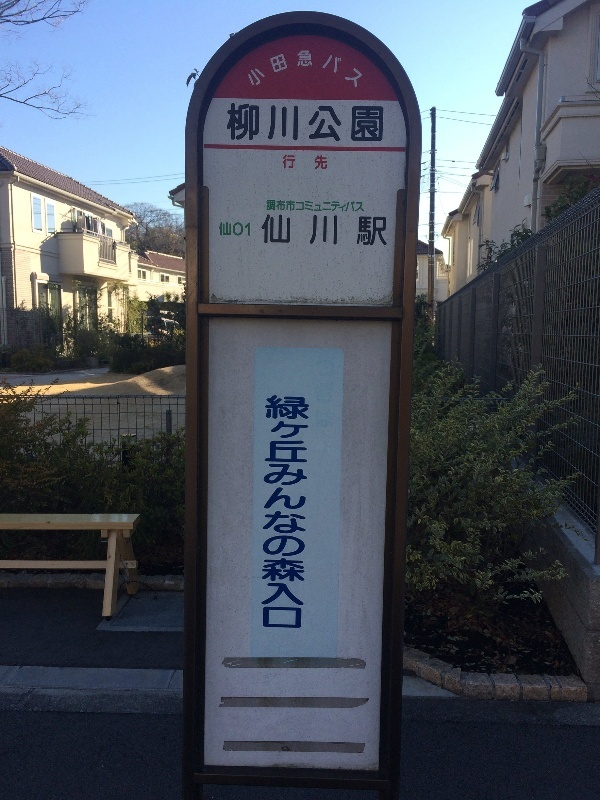text: (273, 395, 288, 630), (289, 395, 304, 630), (265, 395, 272, 630), (305, 395, 310, 630), (257, 43, 272, 89), (273, 43, 288, 89), (289, 43, 304, 89), (305, 43, 320, 89), (321, 43, 336, 89), (337, 43, 352, 89), (241, 104, 256, 143), (257, 104, 272, 143), (273, 104, 288, 143), (289, 104, 304, 143), (305, 104, 320, 143), (321, 104, 336, 143), (337, 104, 352, 143), (353, 104, 368, 143), (369, 104, 384, 143), (273, 215, 288, 249), (289, 215, 304, 249), (305, 215, 320, 249), (321, 215, 336, 249), (337, 215, 352, 249), (353, 215, 368, 249), (369, 215, 384, 249), (227, 104, 240, 143), (353, 43, 362, 89), (262, 215, 272, 249), (250, 43, 256, 89), (289, 155, 304, 170), (305, 155, 320, 170), (225, 222, 240, 236), (273, 200, 288, 212), (289, 200, 304, 212), (305, 200, 320, 212), (321, 200, 336, 212), (337, 200, 352, 212), (241, 222, 251, 236), (353, 200, 364, 212), (321, 155, 327, 170), (283, 155, 288, 170), (219, 222, 224, 236), (385, 215, 387, 249), (267, 200, 272, 212)
